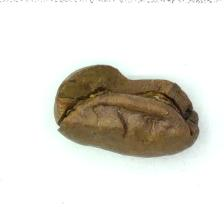NG: (57, 66, 198, 143)
